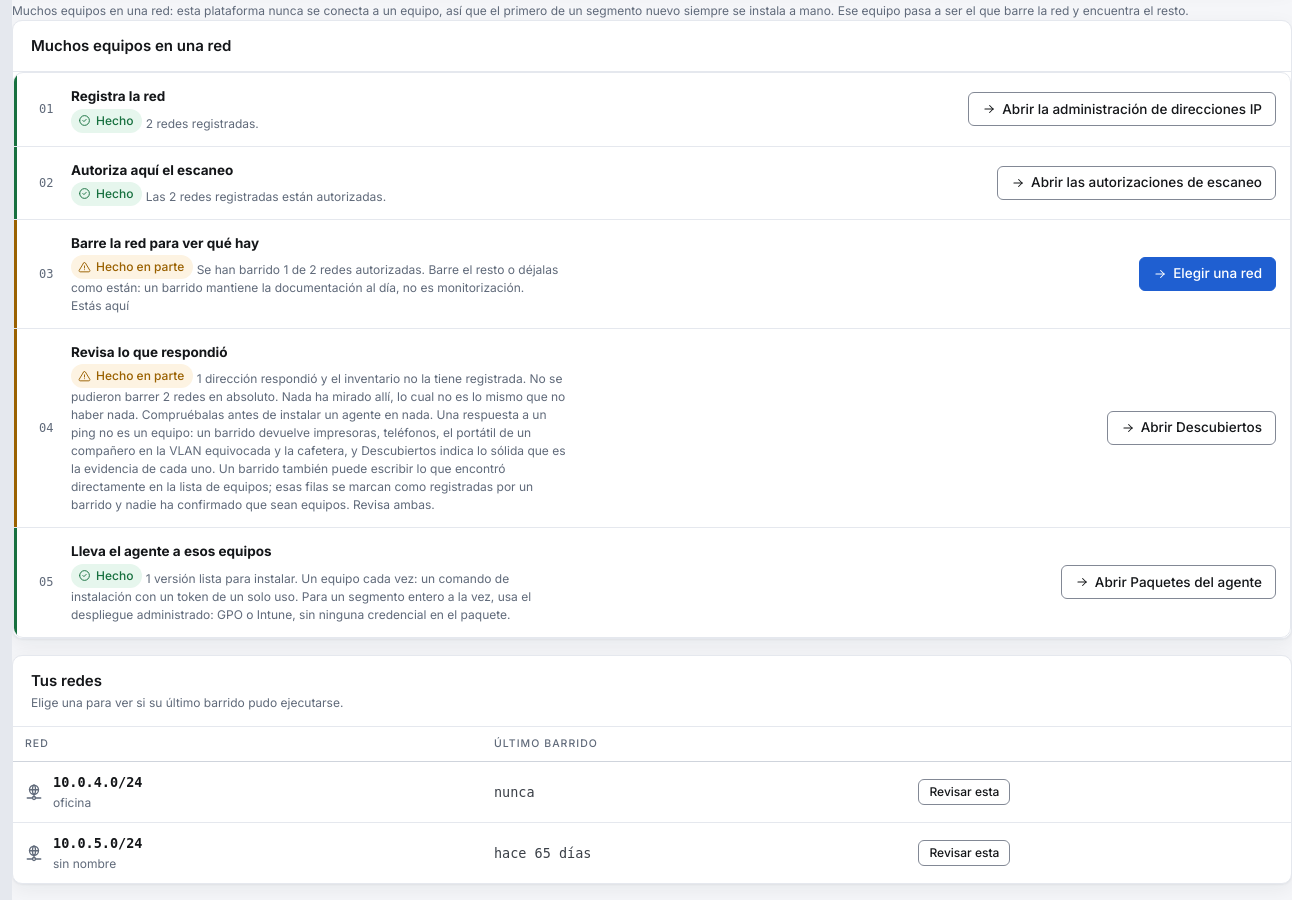
Test: the add-a-computer page in Spanish › words a partly done journey with Spanish plurals and chooses a network
(page scrolled)
expect the text "Hecho 2 redes registradas." is shown: met, box [71,108,259,132]
expect the text "Hecho Las 2 redes registradas están autorizadas." is shown: met, box [71,182,386,206]
Click the button with aria-label "Revisar 10.0.4.0/24". click: click(964, 792)
box: [918,779,1010,805]
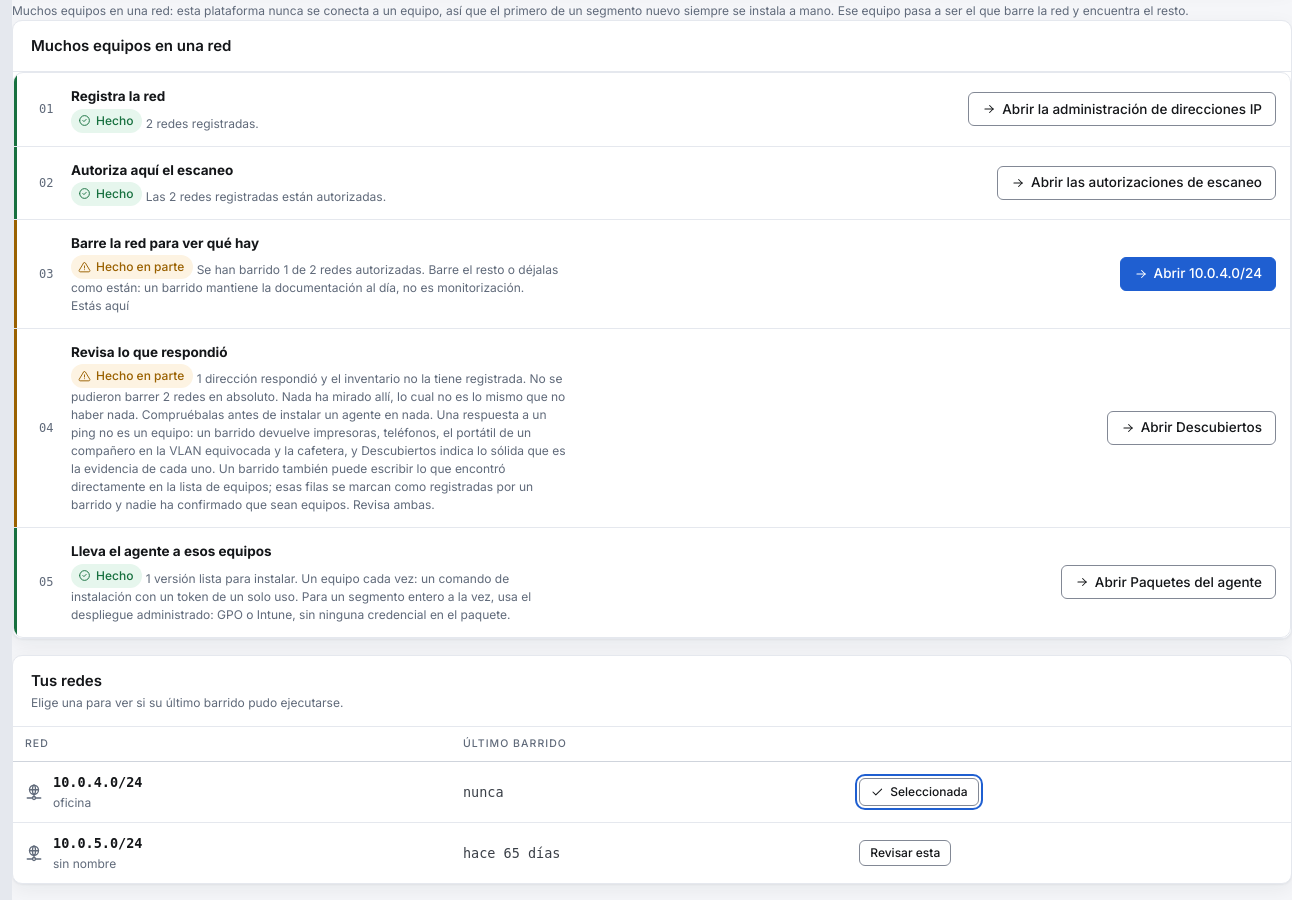
expect the button with aria-label "10.0.4.0/24 seleccionada" is shown: met, box [859,778,979,806]
expect the link "Abrir 10.0.4.0/24" is shown: met, box [1120,257,1276,291]
